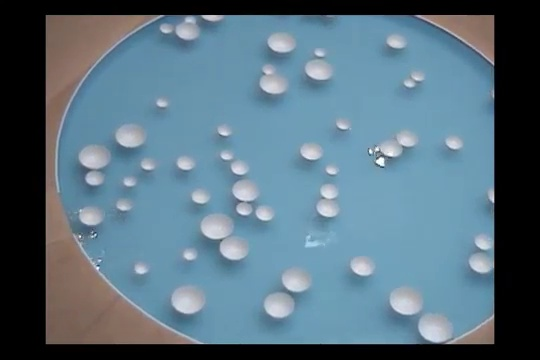bowl: (170, 284, 208, 316), (419, 312, 454, 343), (389, 286, 426, 315), (199, 211, 235, 240), (263, 290, 296, 321), (219, 234, 252, 262), (77, 143, 112, 169), (280, 266, 313, 293), (115, 121, 148, 148), (231, 178, 263, 202), (304, 59, 335, 83), (468, 250, 494, 276), (77, 204, 106, 227), (348, 256, 378, 278), (259, 74, 288, 96), (268, 32, 297, 52), (378, 137, 403, 160), (175, 20, 201, 41), (396, 128, 420, 149), (315, 200, 343, 218), (298, 142, 323, 161), (319, 181, 342, 201), (229, 159, 251, 177), (175, 155, 198, 172), (254, 203, 273, 223), (473, 233, 494, 251), (443, 134, 465, 151), (386, 33, 408, 49), (85, 170, 107, 186), (408, 66, 426, 84), (115, 195, 134, 212), (191, 188, 214, 202), (215, 123, 235, 139), (336, 117, 354, 133), (235, 201, 254, 216), (181, 246, 198, 262), (261, 62, 278, 77), (200, 14, 225, 24), (156, 97, 171, 112), (140, 159, 156, 173), (135, 262, 152, 275), (219, 148, 234, 162), (159, 22, 175, 34), (325, 165, 341, 177), (403, 77, 416, 91), (123, 174, 136, 188), (313, 45, 328, 57), (184, 15, 198, 24), (490, 87, 495, 105), (488, 188, 493, 204)
